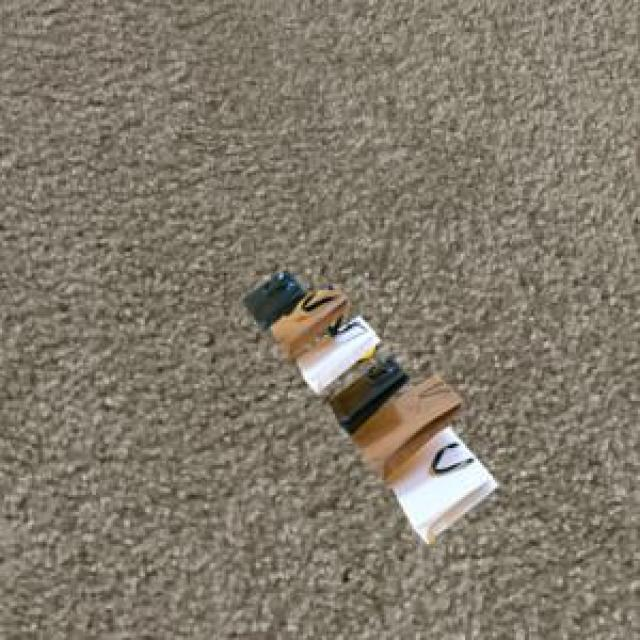paper: (239, 267, 493, 540)
